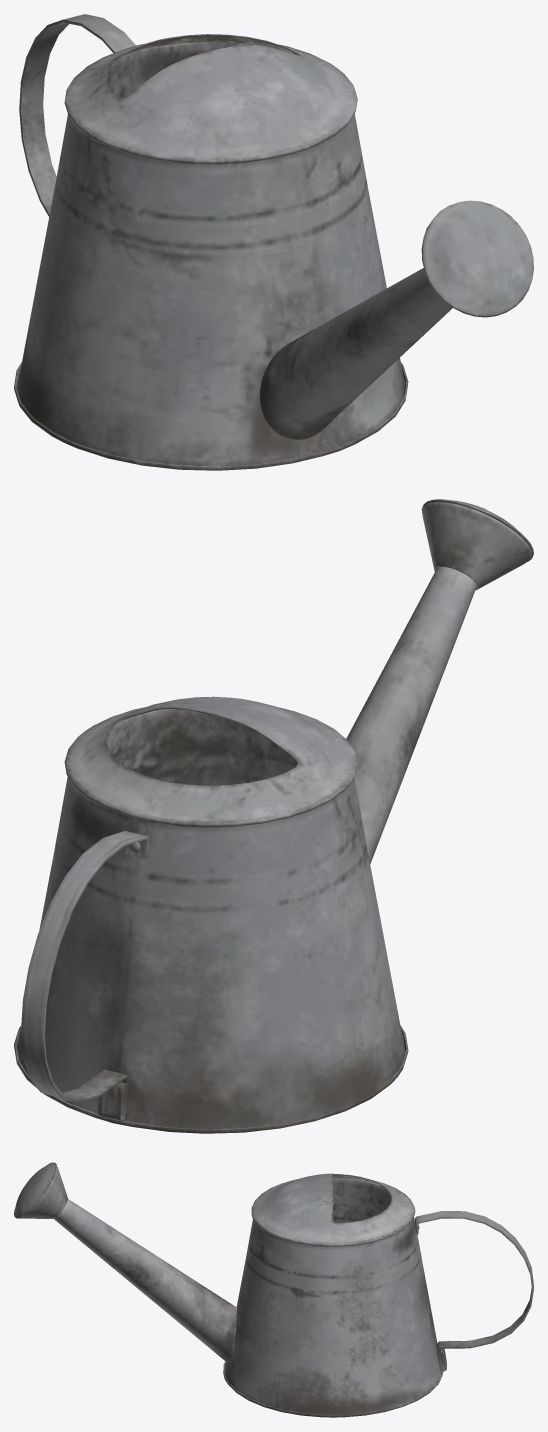
The model's file is watering_can_metal_01.glb.
3 renders of one model, top to bottom at view 1: azimuth 30°, elevation 25°; view 2: azimuth 150°, elevation 25°; view 3: azimuth 270°, elevation 25°, orthographic. The views are drawn at different scales.
Visible parts, largest first — view 1: watering_can_metal_01; view 2: watering_can_metal_01; view 3: watering_can_metal_01.
Part boxes in pixels (<box>): watering_can_metal_01: <box>14,14,533,470</box>; watering_can_metal_01: <box>14,499,533,1133</box>; watering_can_metal_01: <box>14,1162,533,1417</box>.
Bounding box in the file's own units: 0.191 × 0.1968 × 0.4523.
1 material, 1 textured.
